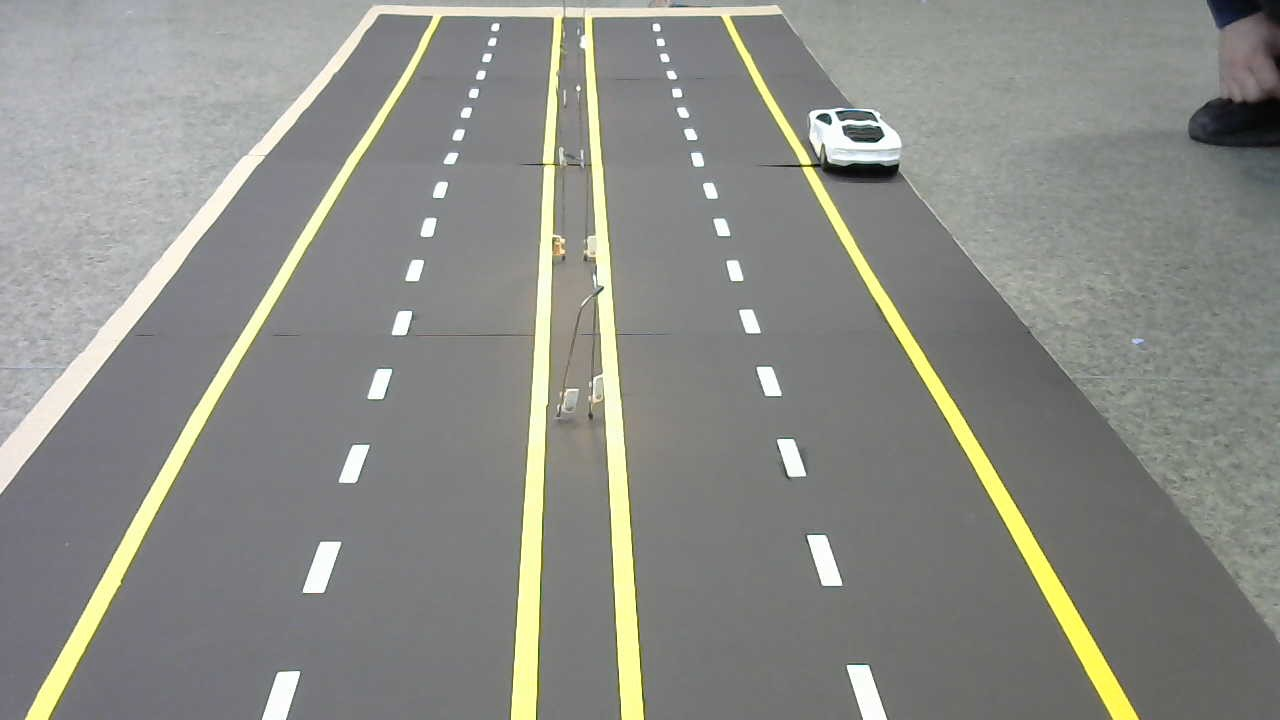back_car: (802, 102, 909, 178)
